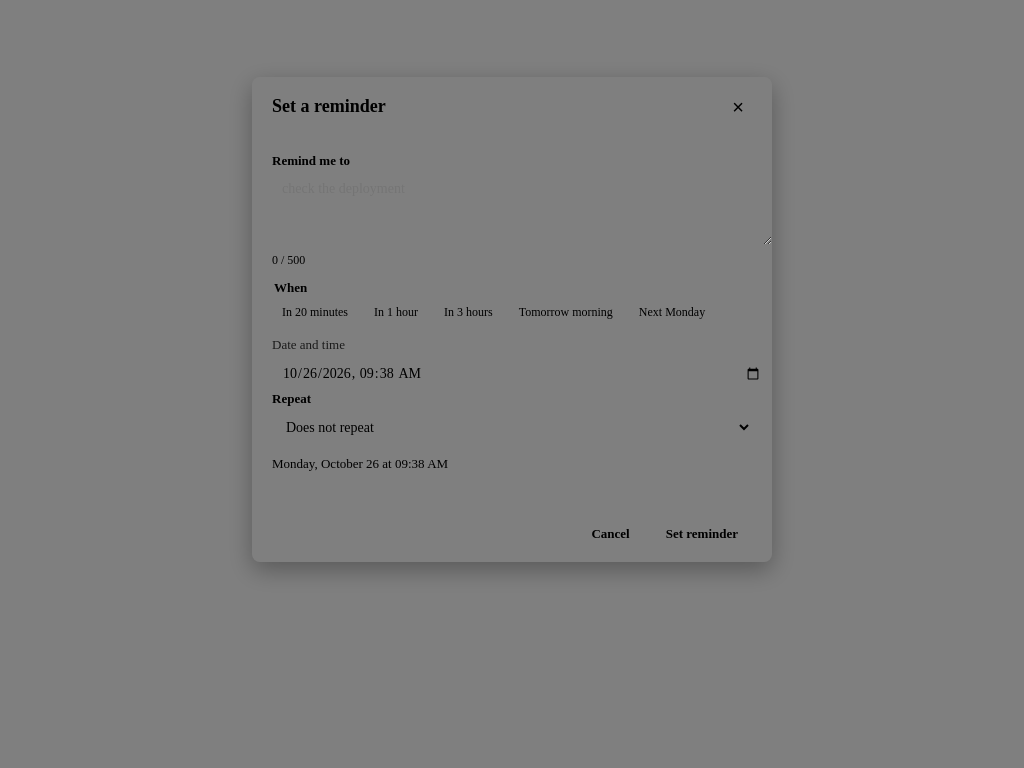
ReminderModal › reveals the interval fields only for a custom repeat
The image size is (1024, 768).
Check: the field labelled "Every" is not shown
Select "Custom interval…" in the dropdown labelled "Repeat" at (512, 427), box 272,411 -> 752,444
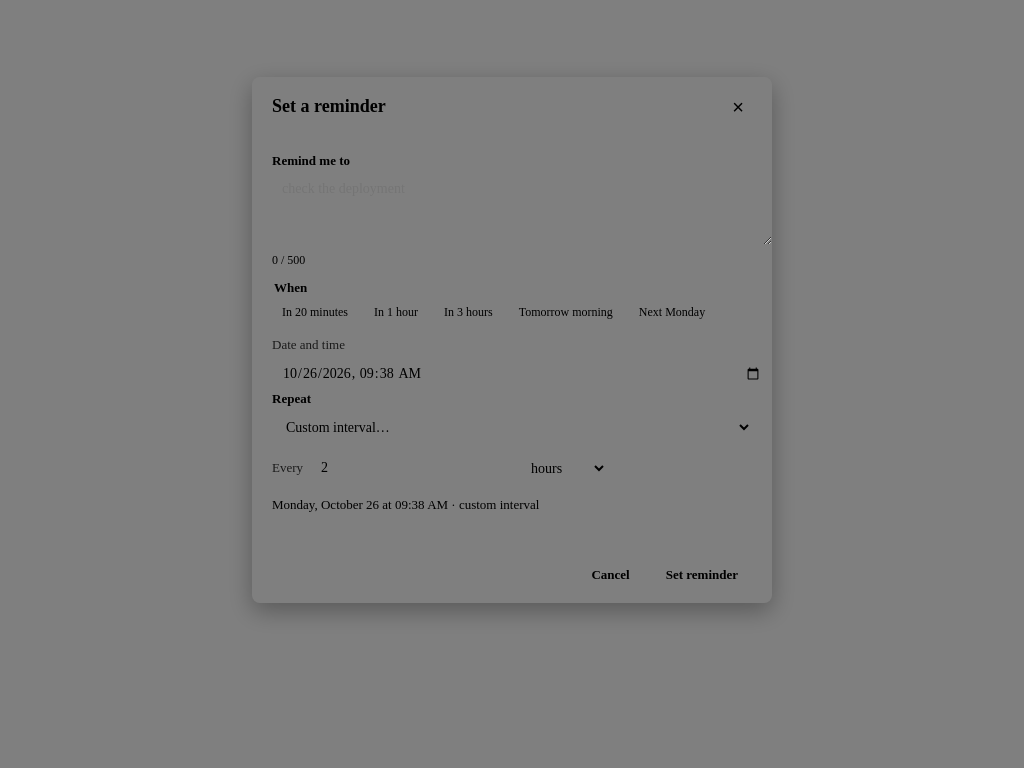
Check: the number field labelled "Every" is shown, box 311,452 -> 509,484
Check: the dropdown named "Interval unit" is shown, box 517,452 -> 607,485
